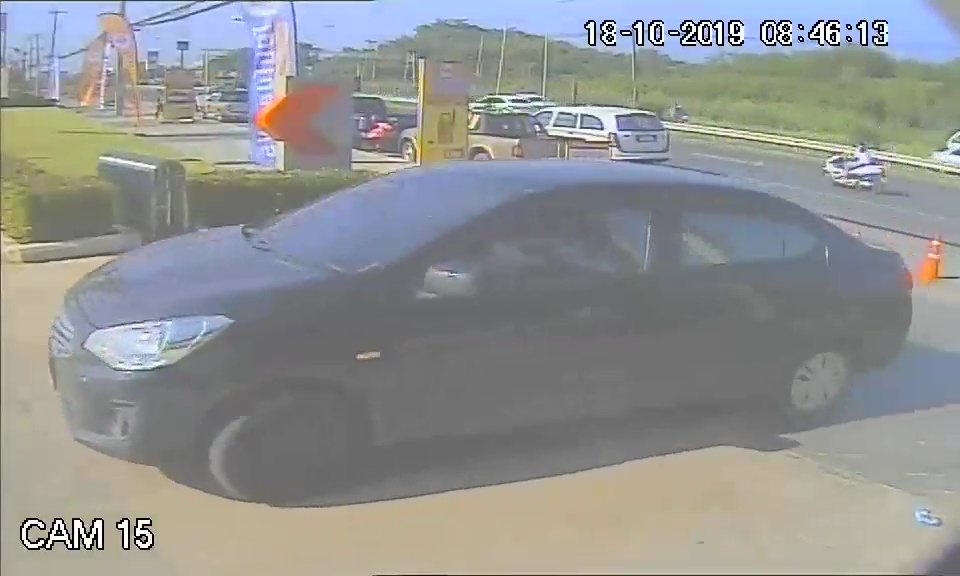sedan: (44, 157, 921, 502)
